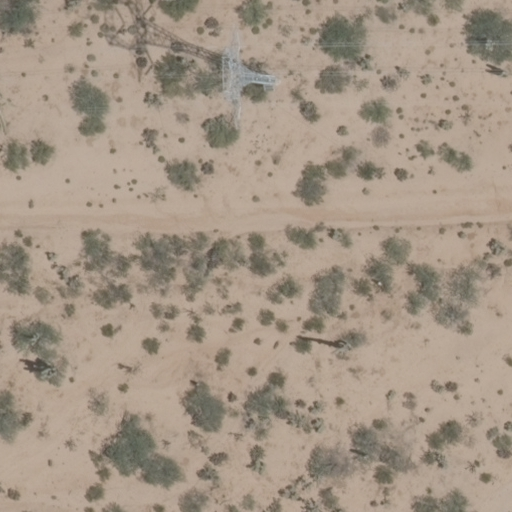TT: (222, 28, 278, 132)
